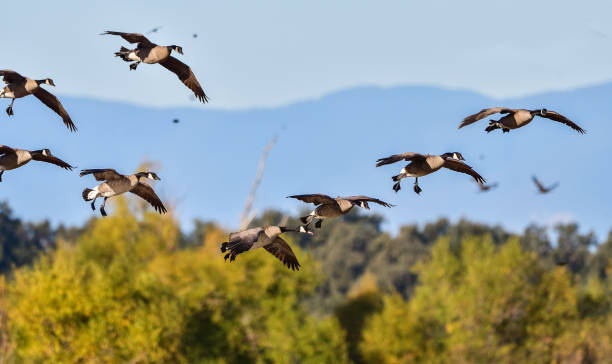goose: (99, 27, 211, 107), (457, 106, 589, 147), (1, 68, 80, 136), (373, 150, 486, 195), (219, 220, 315, 271), (78, 167, 168, 217), (283, 191, 397, 228), (1, 143, 76, 181)
